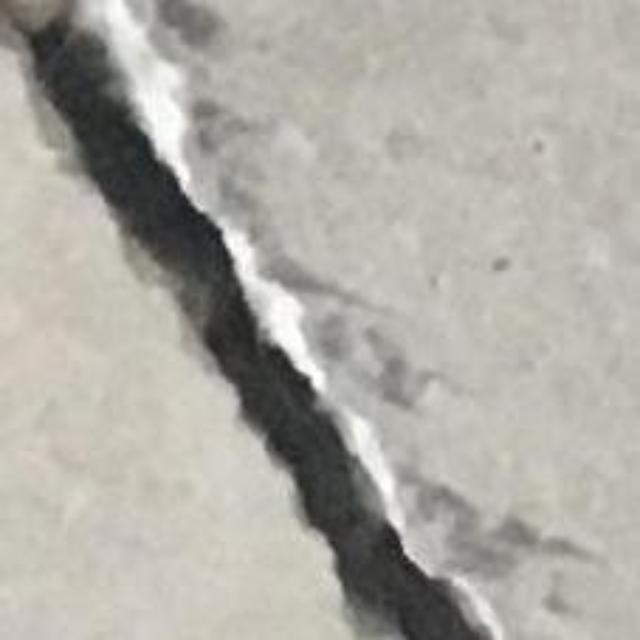crack: (0, 0, 513, 639)
